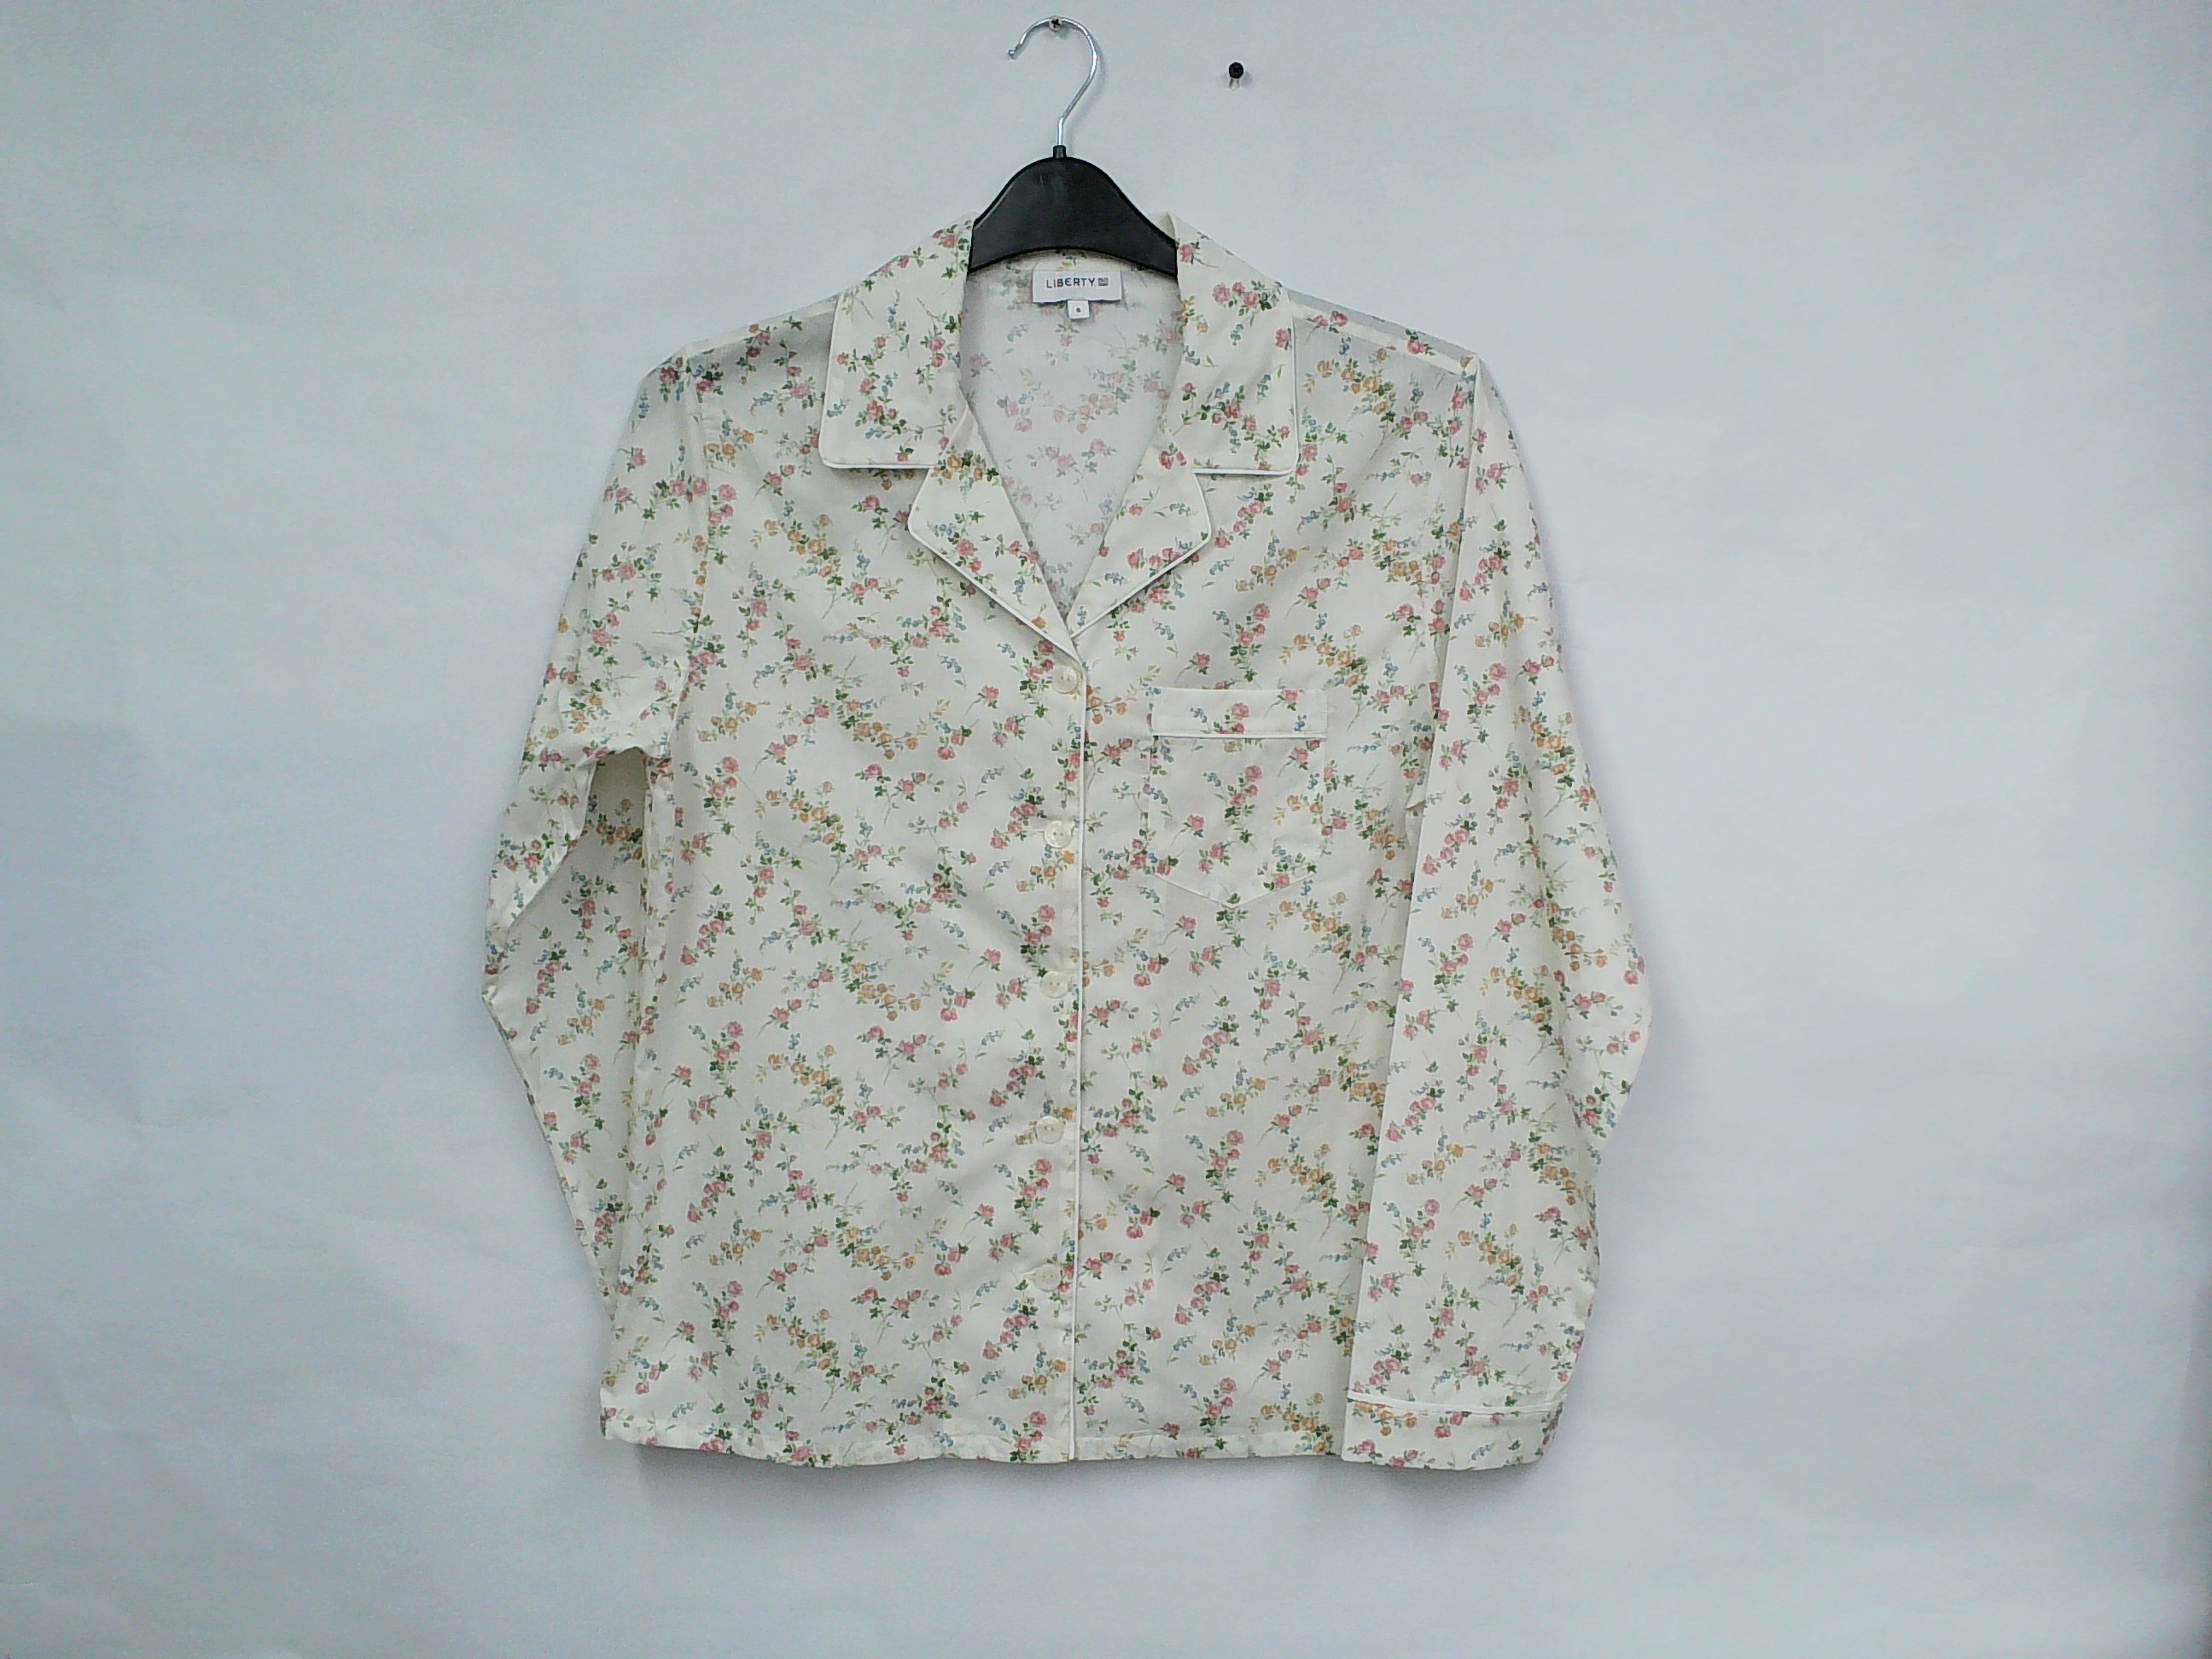wrinkles: (592, 725, 698, 816)
